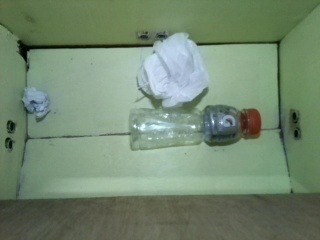bottle: (126, 100, 259, 148)
paper: (18, 86, 47, 120)
plastic-bag: (135, 30, 211, 111)
